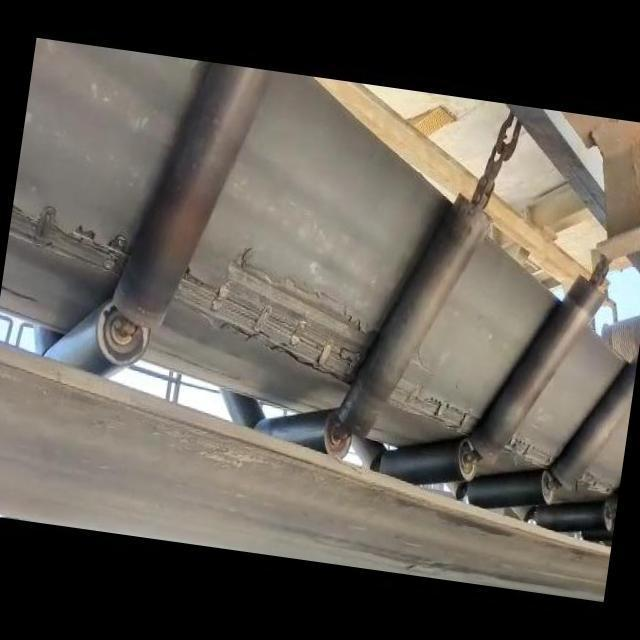Tear: (180, 245, 372, 384), (8, 194, 128, 278), (383, 360, 482, 440), (501, 428, 554, 474), (576, 461, 620, 499)
